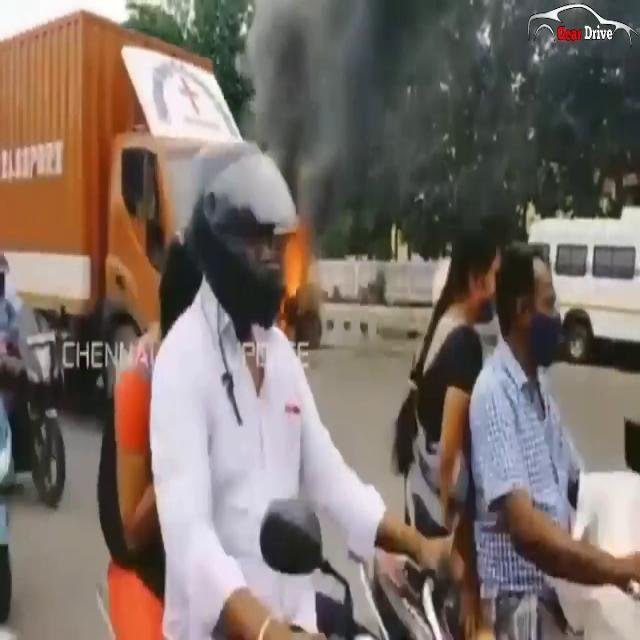Fire: (276, 224, 314, 318)
Smoke: (234, 1, 546, 234)
